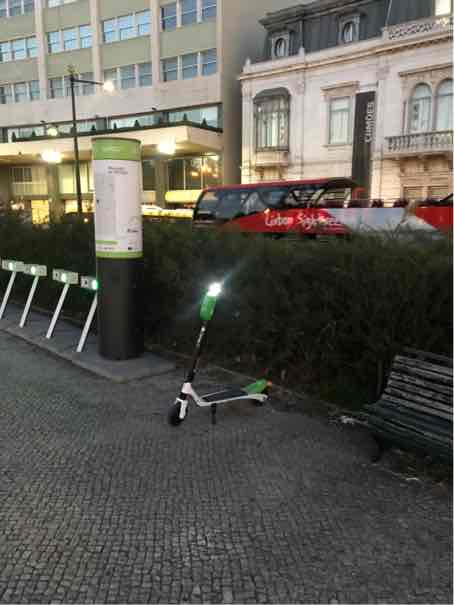scooter: (162, 251, 276, 427)
